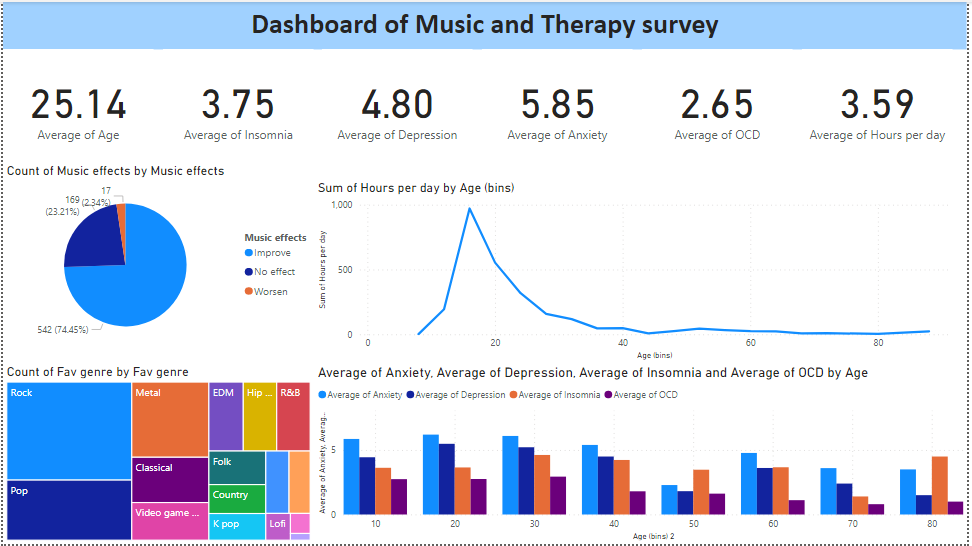

Layout of this report page (visuals, bound fields, positions):
{"tool":"powerbi","page":{"name":"Page 1","canvas":[1280,720],"ordinal":0},"visuals":[{"type":"textbox","box":[0,0,1280.5,62.9],"z":0},{"type":"card","fields":{"Values":["Avg(Music-and-Therapy-survey-1.Age)"]},"box":[0,62.9,200,150.7],"z":1000},{"type":"card","fields":{"Values":["Avg(Music-and-Therapy-survey-1.Insomnia)"]},"box":[212.2,62.9,200,150.7],"z":2000},{"type":"card","fields":{"Values":["Avg(Music-and-Therapy-survey-1.Depression)"]},"box":[424.4,62.9,200,150.7],"z":3000},{"type":"card","fields":{"Values":["Avg(Music-and-Therapy-survey-1.Anxiety)"]},"box":[636.6,62.9,200,150.7],"z":4000},{"type":"card","fields":{"Values":["Avg(Music-and-Therapy-survey-1.OCD)"]},"box":[848.8,62.9,200,150.7],"z":5000},{"type":"card","fields":{"Values":["Avg(Music-and-Therapy-survey-1.Hours per day)"]},"box":[1061,62.9,200,150.7],"z":6000},{"type":"pieChart","fields":{"Category":["Music-and-Therapy-survey-1.Music effects"],"Y":["CountNonNull(Music-and-Therapy-survey-1.Music effects)"]},"box":[0,213.7,424.4,251.7],"z":7000},{"type":"lineChart","fields":{"Category":["Music-and-Therapy-survey-1.Age (bins)"],"Y":["Sum(Music-and-Therapy-survey-1.Hours per day)"]},"box":[412.7,237.1,848.8,244.4],"z":8000},{"type":"treemap","fields":{"Values":["CountNonNull(Music-and-Therapy-survey-1.Fav genre)"],"Group":["Music-and-Therapy-survey-1.Fav genre"]},"box":[0,481.5,412.7,238.5],"z":9000},{"type":"clusteredColumnChart","title":"Average of Anxiety, Average of Depression, Average of Insomnia and Average of OCD by Age","fields":{"Y":["Avg(Music-and-Therapy-survey-1.Anxiety)","Avg(Music-and-Therapy-survey-1.Depression)","Avg(Music-and-Therapy-survey-1.Insomnia)","Avg(Music-and-Therapy-survey-1.OCD)"],"Category":["Music-and-Therapy-survey-1.Age (bins) 2"]},"box":[412.7,481.5,867.8,238.5],"z":10000}]}

Visuals, with their boxes in screenshot pixels (x1, y1, x2, y2), scaled from the page's 1280x720 canvas onto the 972x546 screenshot:
textbox: <box>0,0,971,48</box>
card - Avg(Music-and-Therapy-survey-1.Age): <box>0,48,152,162</box>
card - Avg(Music-and-Therapy-survey-1.Insomnia): <box>161,48,313,162</box>
card - Avg(Music-and-Therapy-survey-1.Depression): <box>322,48,474,162</box>
card - Avg(Music-and-Therapy-survey-1.Anxiety): <box>483,48,635,162</box>
card - Avg(Music-and-Therapy-survey-1.OCD): <box>645,48,796,162</box>
card - Avg(Music-and-Therapy-survey-1.Hours per day): <box>806,48,958,162</box>
pieChart - Music-and-Therapy-survey-1.Music effects x CountNonNull(Music-and-Therapy-survey-1.Music effects): <box>0,162,322,353</box>
lineChart - Music-and-Therapy-survey-1.Age (bins) x Sum(Music-and-Therapy-survey-1.Hours per day): <box>313,180,958,365</box>
treemap - CountNonNull(Music-and-Therapy-survey-1.Fav genre) x Music-and-Therapy-survey-1.Fav genre: <box>0,365,313,545</box>
"Average of Anxiety, Average of Depression, Average of Insomnia and Average of OCD by Age" clusteredColumnChart: <box>313,365,971,545</box>
